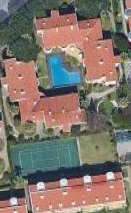pool: (51, 60, 75, 84)
